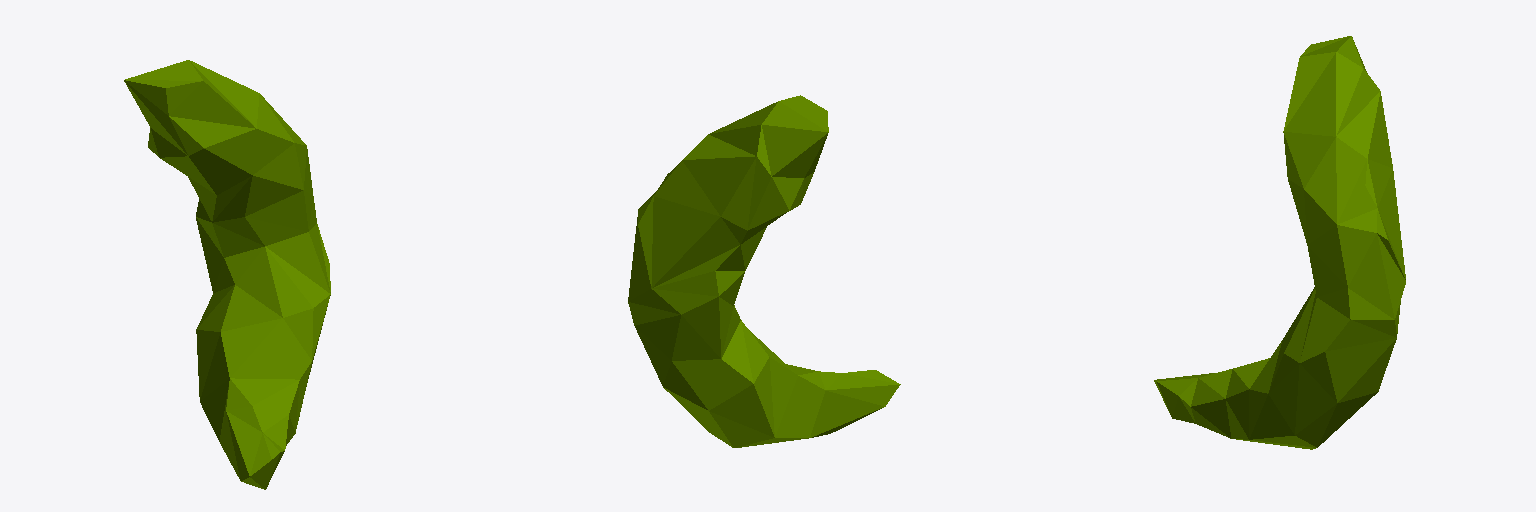
3 views of the same model, side by side, from view 1: azimuth 30°, elevation 25°; view 2: azimuth 150°, elevation 25°; view 3: azimuth 270°, elevation 25° (orthographic).
Visible parts, largest first — view 1: Polygonal_Model_2_Triangles_0; view 2: Polygonal_Model_2_Triangles_0; view 3: Polygonal_Model_2_Triangles_0.
Boxes of the visible parts, box(x1,y1,x2,y2) form: Polygonal_Model_2_Triangles_0: box(124, 60, 330, 489); Polygonal_Model_2_Triangles_0: box(628, 95, 900, 447); Polygonal_Model_2_Triangles_0: box(1154, 36, 1405, 449).
Size of the model in its own units: 0.5464 by 1 by 0.6191.